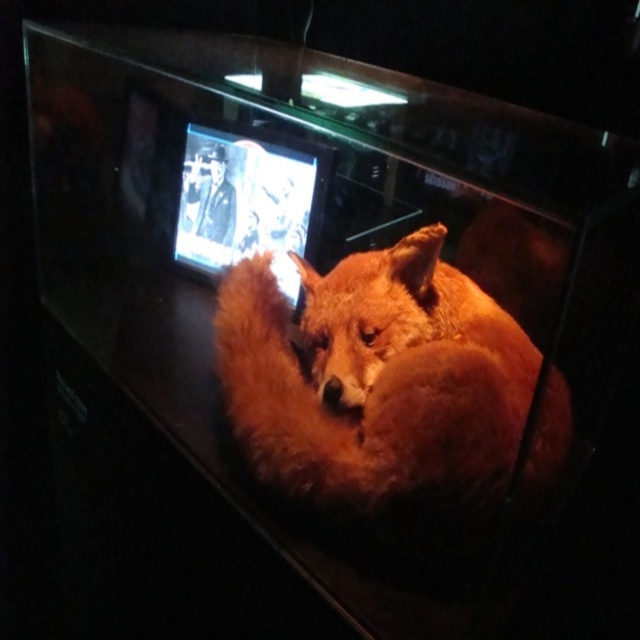Fox: (211, 219, 575, 541)
